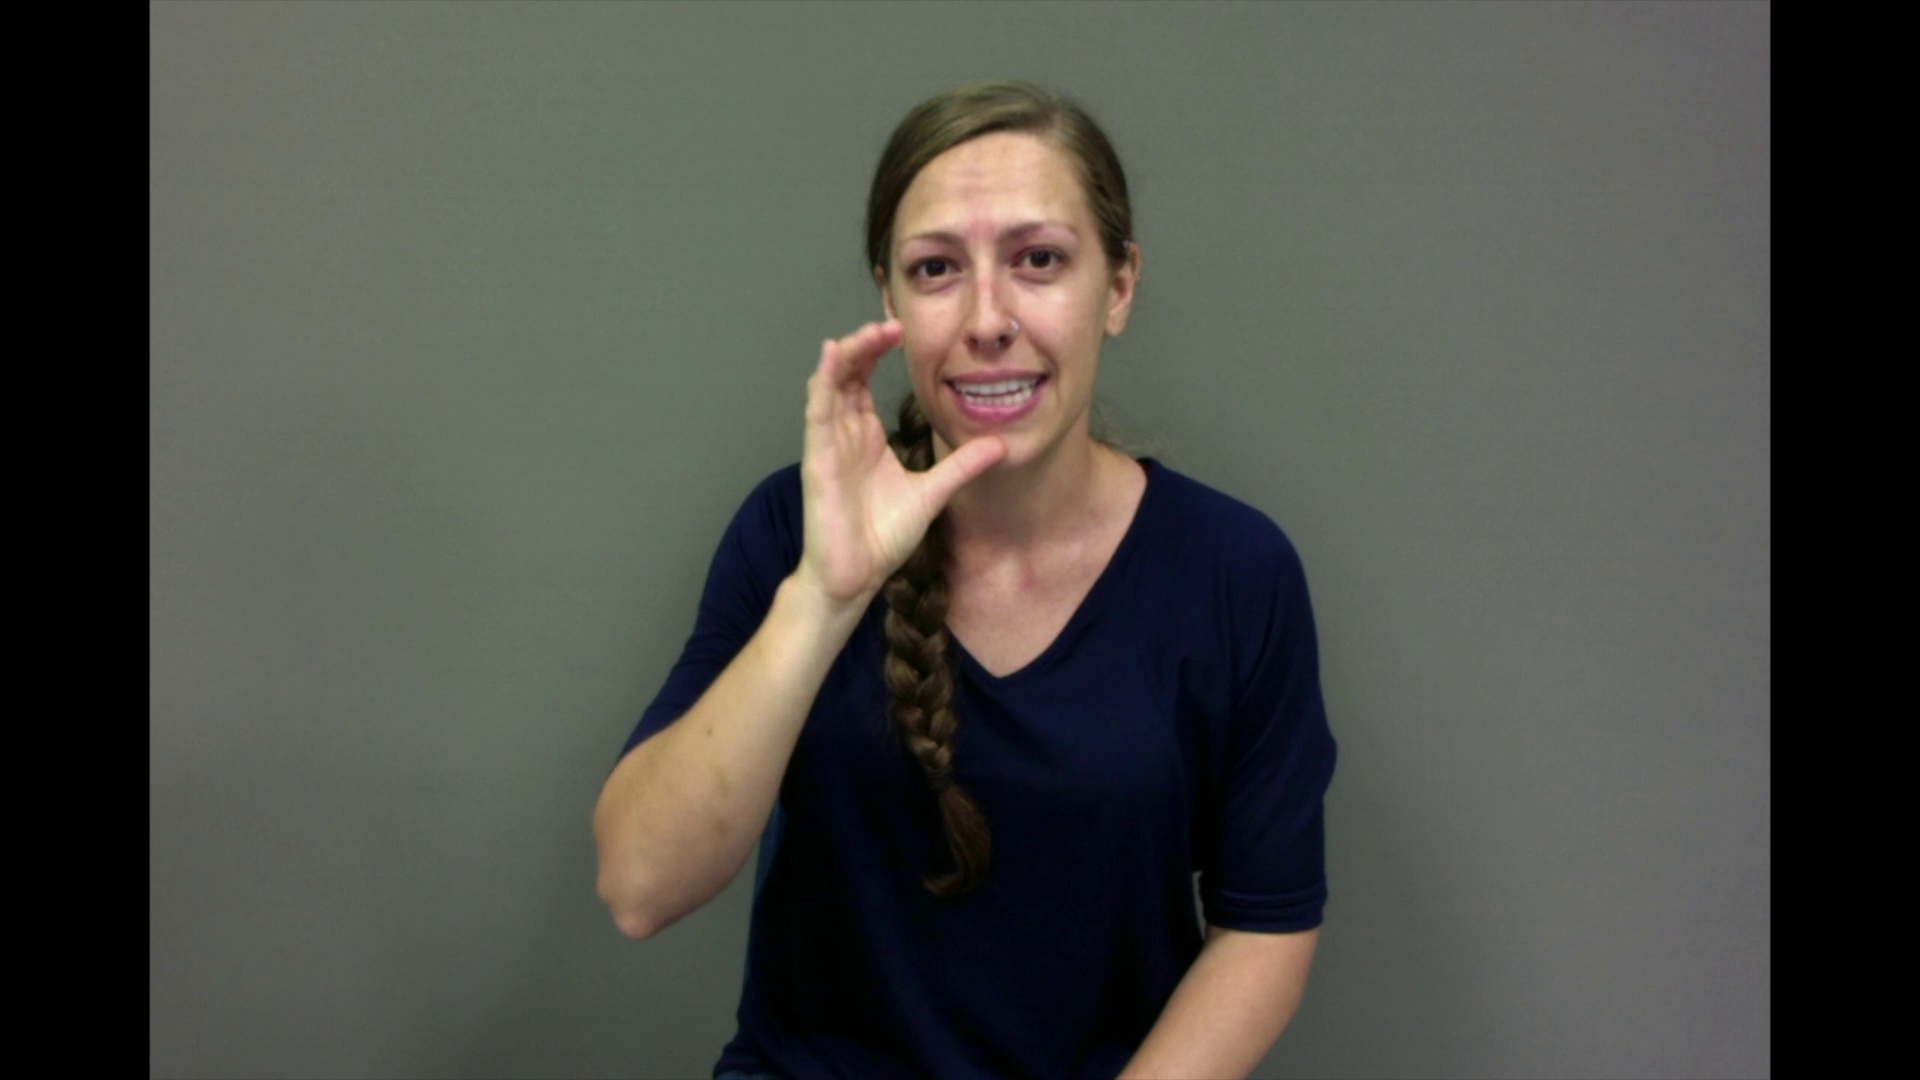drink: (783, 313, 1004, 578)
